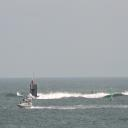submarine: (31, 82, 40, 99)
